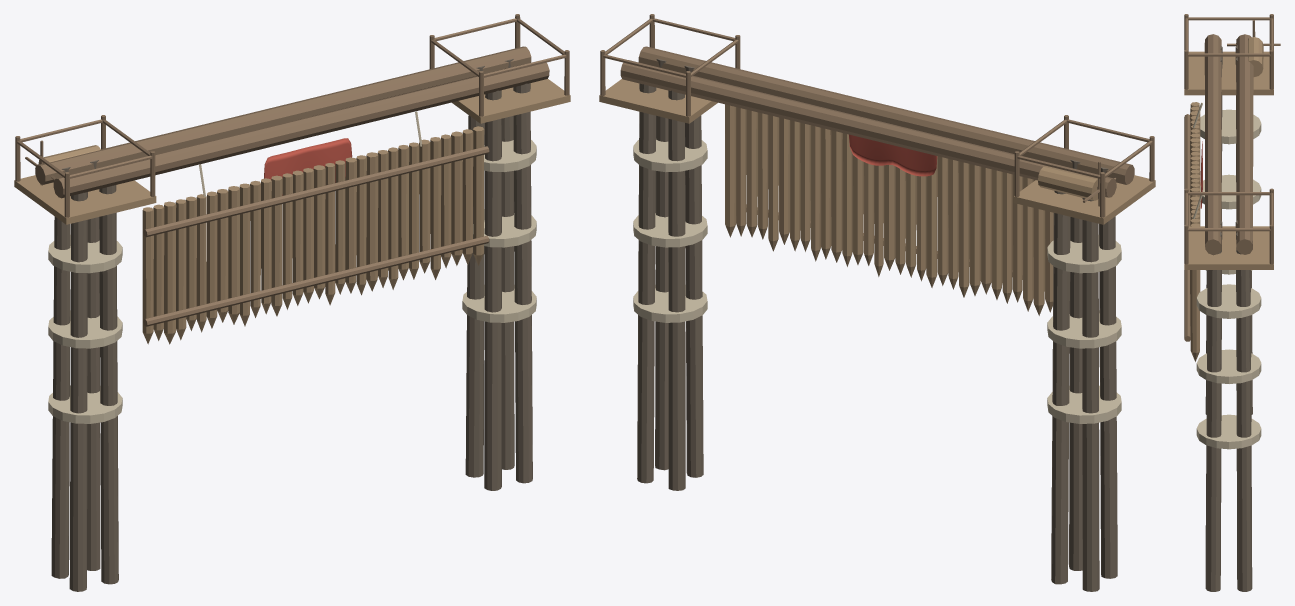
3 renders of one model, left to right at view 1: azimuth 30°, elevation 25°; view 2: azimuth 150°, elevation 25°; view 3: azimuth 270°, elevation 25°, orthographic. The views are drawn at different scales.
Visible parts, largest first — view 1: H04_闸门木, H04_门楼桩, H04_横梁, H04_桩箍绳, H04_闸门横档, H04_门楼平台, H04_门楼栏杆, H04_门额幡; view 2: H04_门楼桩, H04_闸门木, H04_横梁, H04_桩箍绳, H04_门楼平台, H04_门楼栏杆, H04_门额幡, H04_绞盘; view 3: H04_门楼桩, H04_横梁, H04_桩箍绳, H04_门楼平台, H04_门楼栏杆, H04_闸门木, H04_闸门横档, H04_绞盘.
Part boxes in pixels (x1,y1,x2,y2): H04_闸门木: (142, 126, 484, 344); H04_门楼桩: (51, 59, 532, 591); H04_横梁: (35, 46, 549, 198); H04_桩箍绳: (48, 140, 536, 423); H04_闸门横档: (143, 146, 489, 326); H04_门楼平台: (14, 79, 570, 224); H04_门楼栏杆: (15, 14, 569, 217); H04_门额幡: (264, 138, 352, 195); H04_门楼桩: (637, 58, 1117, 591); H04_闸门木: (725, 104, 1053, 315); H04_横梁: (620, 46, 1134, 197); H04_桩箍绳: (633, 139, 1121, 423); H04_门楼平台: (599, 79, 1155, 224); H04_门楼栏杆: (600, 14, 1154, 217); H04_门额幡: (849, 134, 937, 176); H04_绞盘: (1038, 166, 1097, 200); H04_门楼桩: (1205, 45, 1252, 591); H04_横梁: (1204, 34, 1253, 255); H04_桩箍绳: (1196, 109, 1261, 449); H04_门楼平台: (1184, 51, 1273, 269); H04_门楼栏杆: (1184, 14, 1273, 264); H04_闸门木: (1190, 102, 1200, 361); H04_闸门横档: (1184, 114, 1190, 341); H04_绞盘: (1248, 37, 1263, 76).
Size of the model in its own units: 1120 by 920 by 215.
